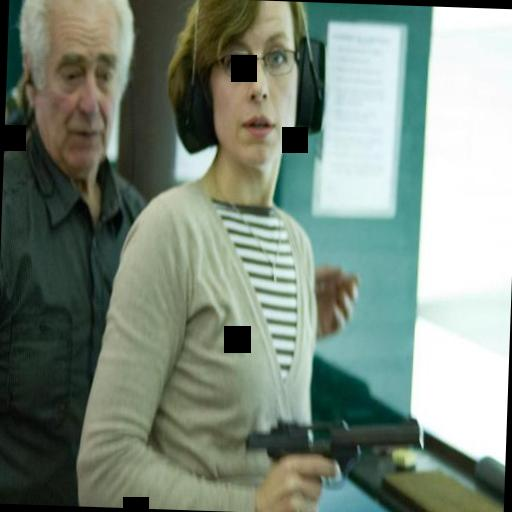Handgun: (238, 408, 424, 496)
